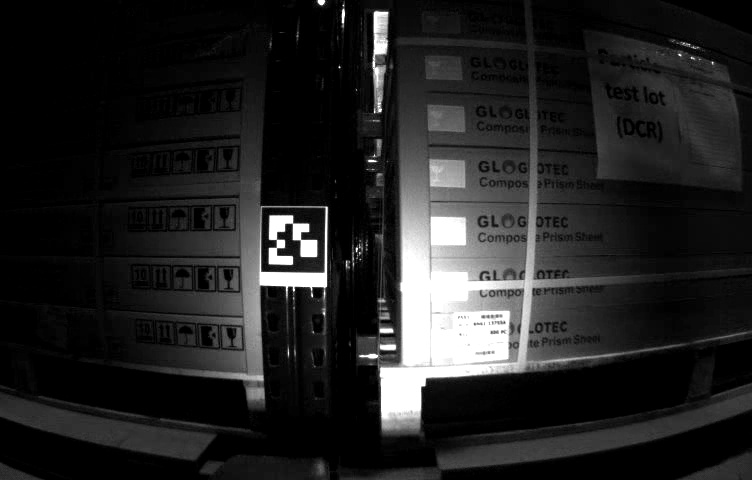True Barcode: (451, 310, 511, 360), (25, 305, 69, 349)
